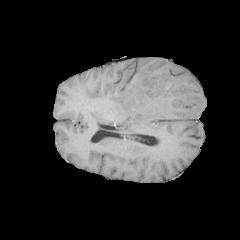glioma: (107, 66, 203, 130)
